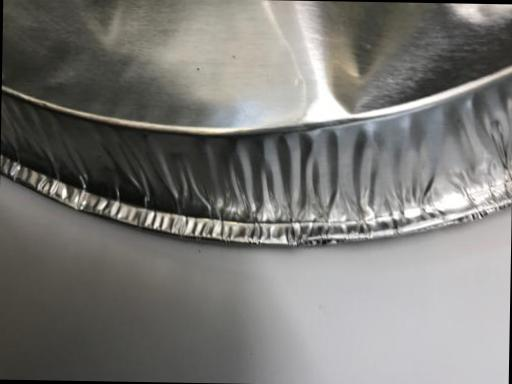metal: (0, 0, 507, 309)
